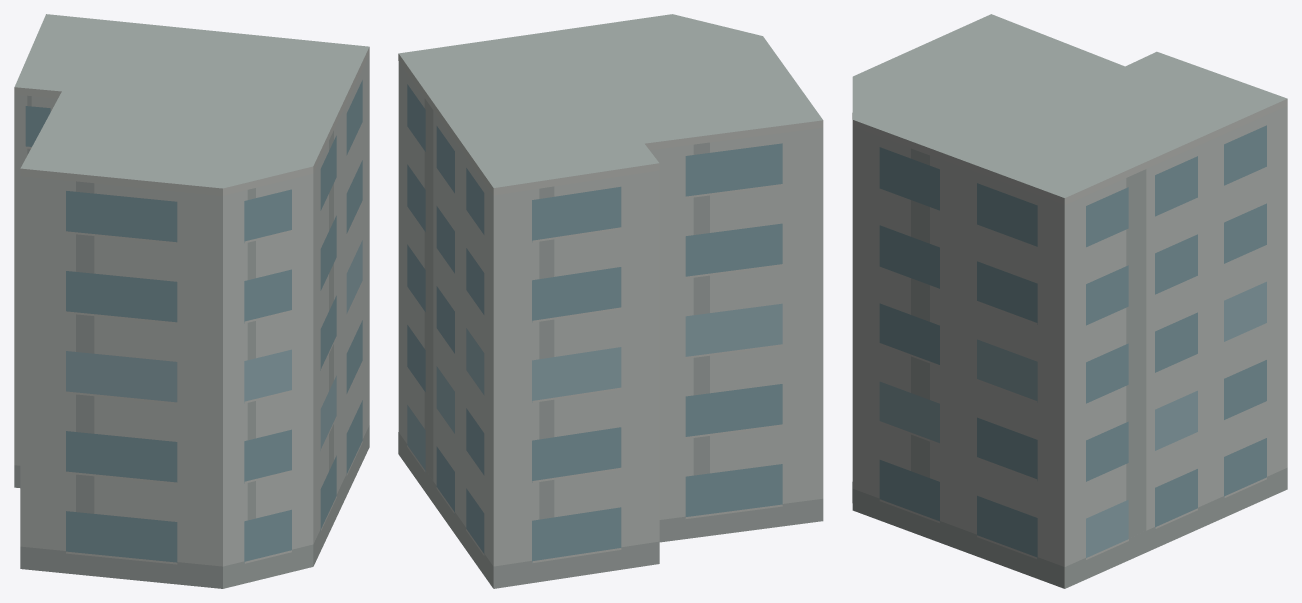
File: survey-upis-32911804.glb
The picture shows the model from 3 angles, left to right: view 1: azimuth 30°, elevation 25°; view 2: azimuth 150°, elevation 25°; view 3: azimuth 270°, elevation 25°; orthographic projection. The views are drawn at different scales.
Parts seen in each view (by area): view 1: survey-upis-32911804.tmp; view 2: survey-upis-32911804.tmp; view 3: survey-upis-32911804.tmp.
Boxes of the visible parts, left/top/right/bottom form: survey-upis-32911804.tmp: left=14, top=14, right=369, bottom=588; survey-upis-32911804.tmp: left=398, top=14, right=823, bottom=588; survey-upis-32911804.tmp: left=852, top=14, right=1287, bottom=588.
Size of the model in its own units: 13.35 by 13.2 by 13.34.
